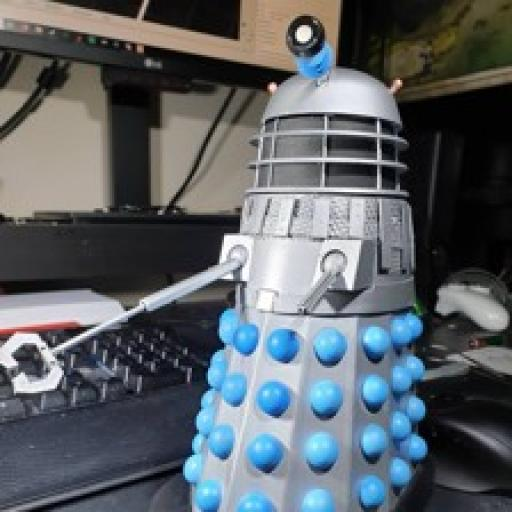dalek: (0, 16, 434, 512)
